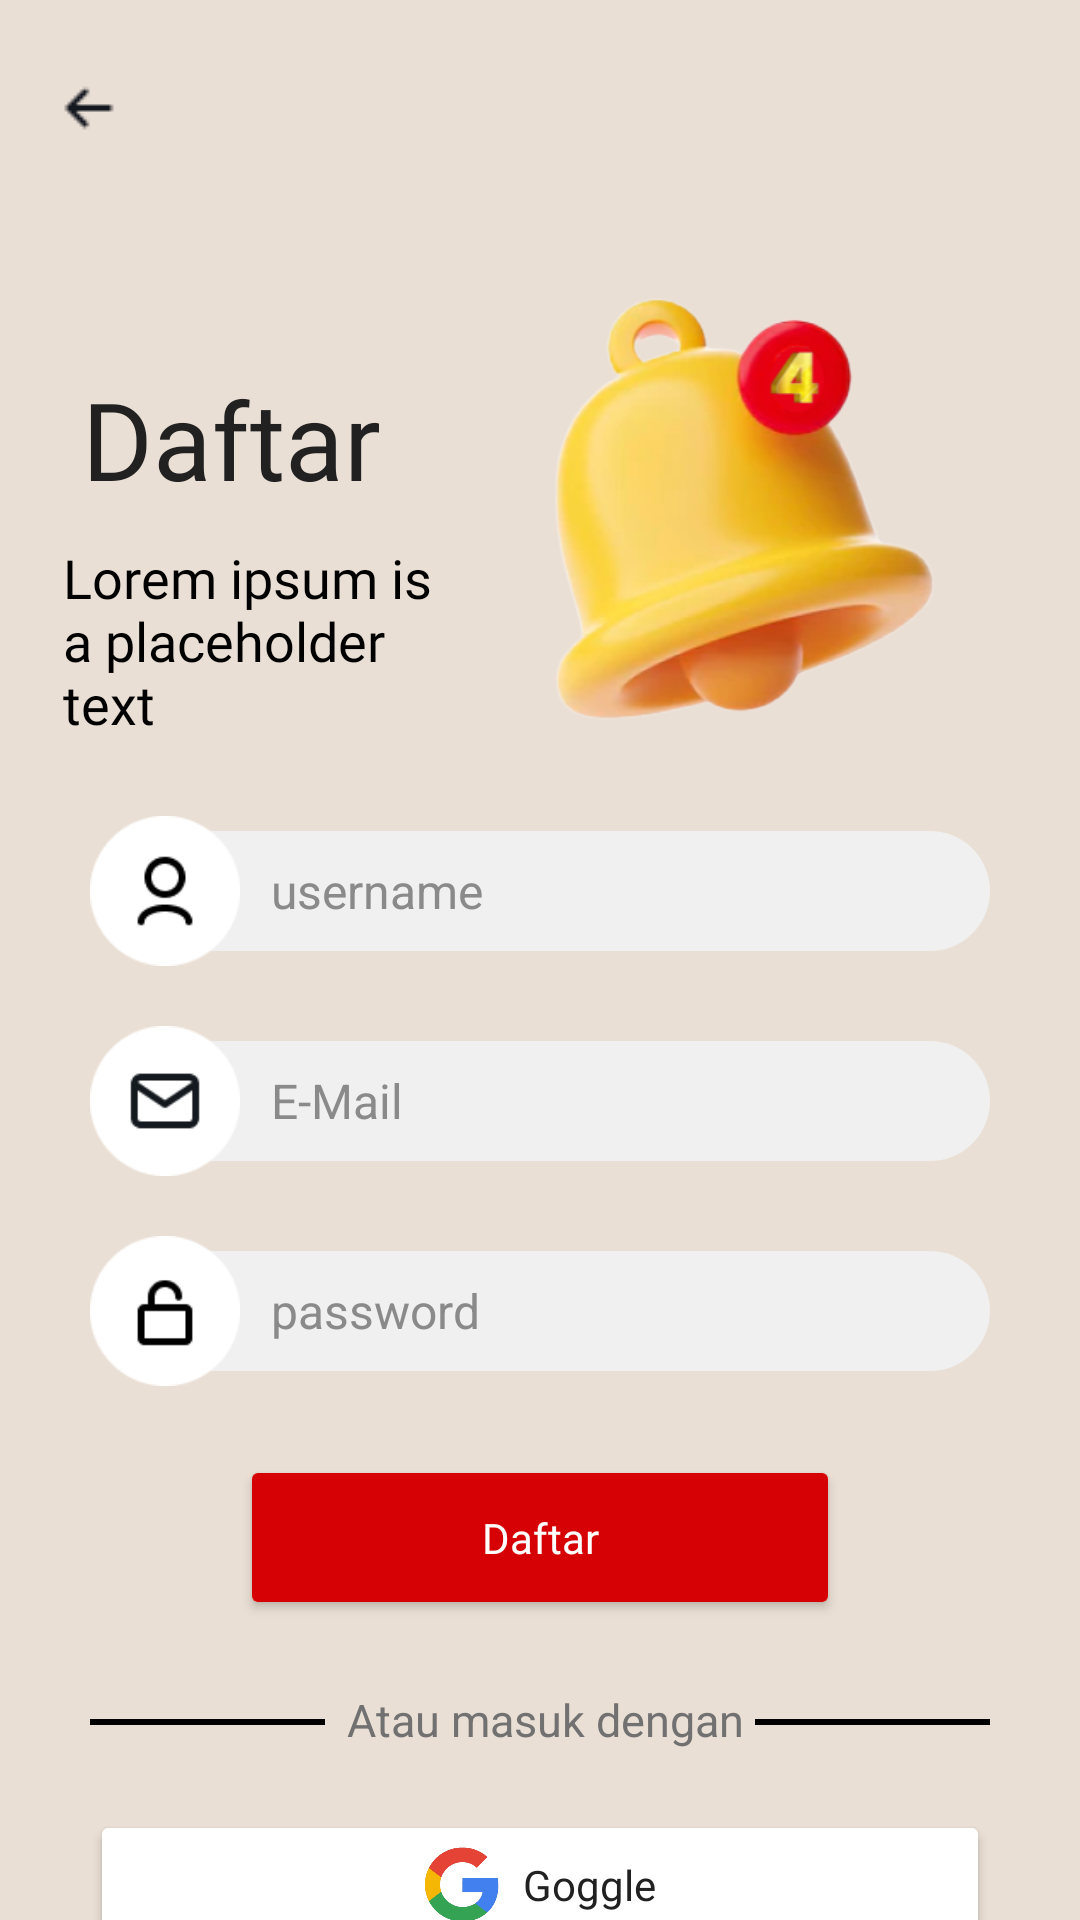

Where to tap for icons on this 1080*1920 app screen, as (x=x, y=y):
back: (x=89, y=108)
ugembok: (x=165, y=1311)
uprofile: (x=165, y=891)
